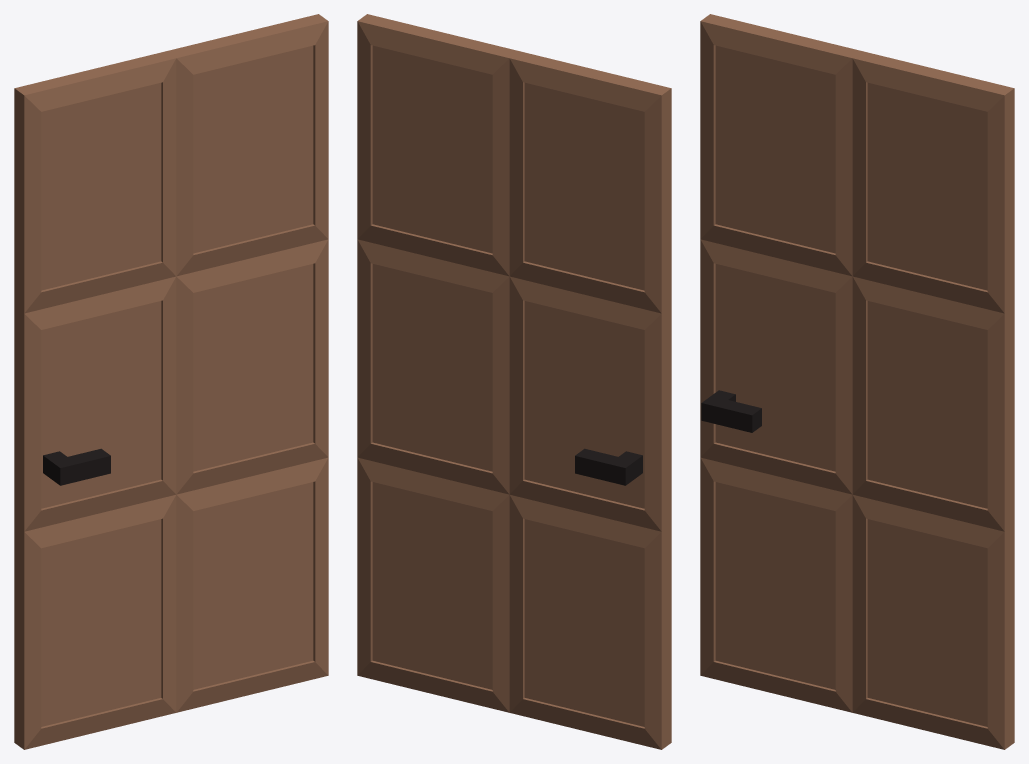
File: Door.glb
The picture shows the model from 3 angles, left to right: view 1: azimuth 30°, elevation 25°; view 2: azimuth 150°, elevation 25°; view 3: azimuth 330°, elevation 25°; orthographic projection.
Visible parts, largest first — view 1: Door; view 2: Door; view 3: Door.
Boxes of the visible parts, x1,y1,x2,y2 form: Door: (14,14,328,749); Door: (357,14,671,749); Door: (700,14,1014,749).
Bounding box in the file's own units: 0.9 × 1.85 × 0.23.
